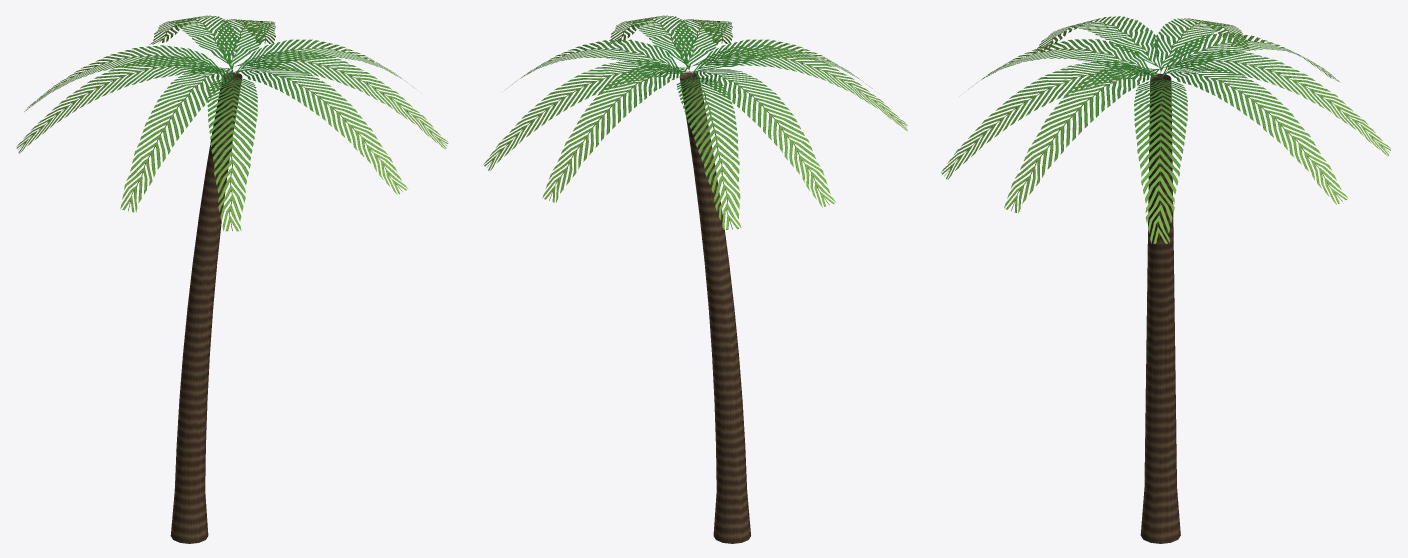
File: palma.obj
The picture shows the model from 3 angles, left to right: view 1: azimuth 30°, elevation 25°; view 2: azimuth 150°, elevation 25°; view 3: azimuth 270°, elevation 25°; orthographic projection. The views are drawn at different scales.
Visible parts, largest first — view 1: palma; view 2: palma; view 3: palma.
Part boxes in pixels (bbox=[...]): palma: bbox=[16, 15, 448, 543]; palma: bbox=[483, 15, 907, 543]; palma: bbox=[941, 16, 1390, 543].
Size of the model in its own units: 4.34 by 5.22 by 4.33.
Materials: 2 (2 with a texture image).
